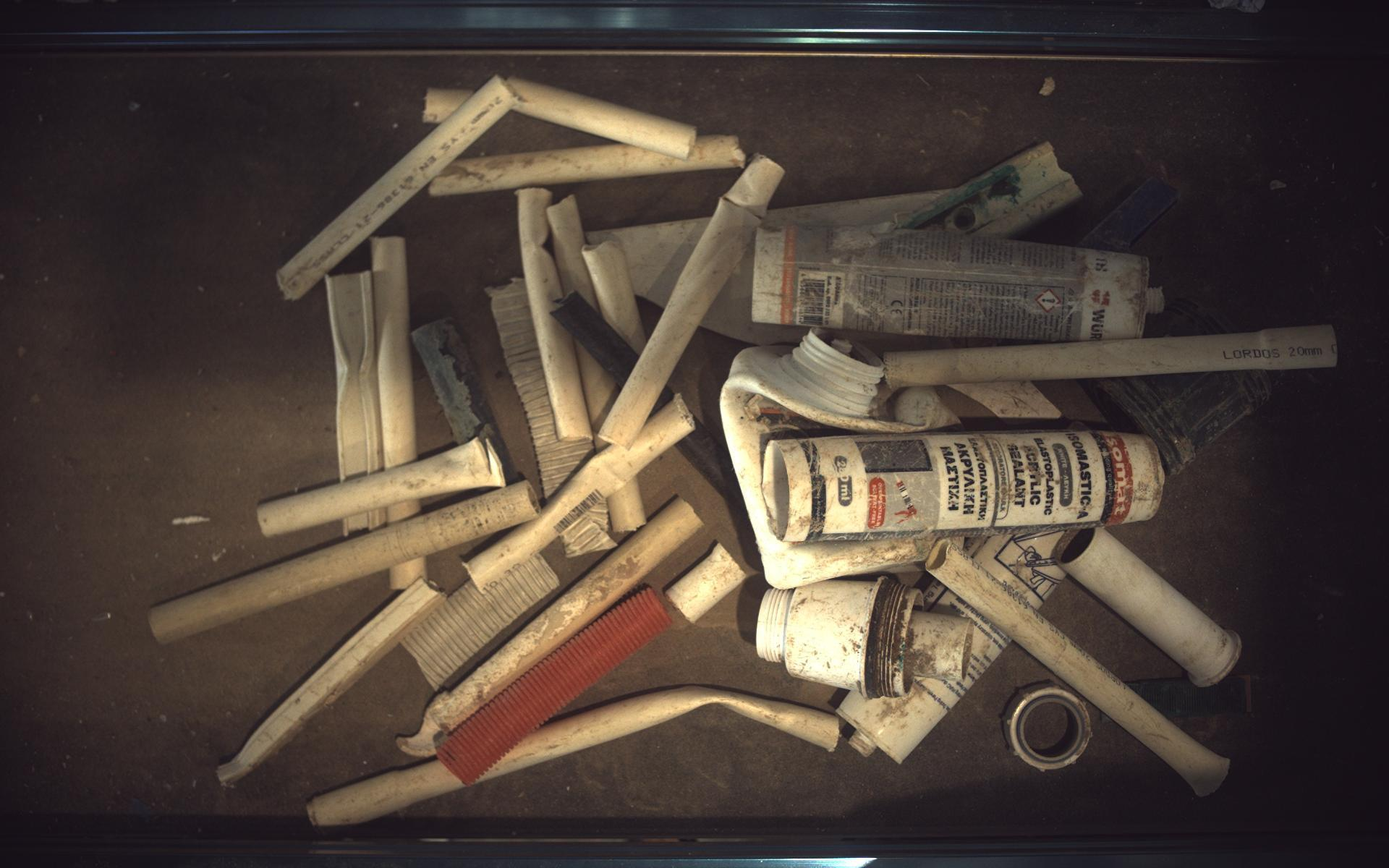pipes: (398, 498, 704, 758), (927, 541, 1233, 798), (148, 481, 538, 644), (598, 154, 785, 447), (276, 74, 516, 299), (437, 588, 673, 786), (465, 396, 696, 589), (481, 687, 841, 781), (1056, 529, 1244, 688), (885, 325, 1341, 388), (257, 438, 506, 537), (486, 278, 594, 499), (401, 553, 559, 690), (429, 134, 747, 195), (518, 187, 592, 441), (412, 318, 519, 484), (508, 76, 697, 159), (371, 236, 417, 469), (307, 760, 464, 828), (552, 292, 638, 386), (582, 234, 647, 354), (666, 543, 748, 624), (548, 195, 598, 310), (548, 194, 598, 307), (678, 419, 742, 506), (576, 343, 618, 430), (562, 501, 610, 558), (608, 477, 647, 534), (422, 87, 473, 123), (390, 558, 426, 591), (386, 500, 421, 522), (655, 387, 676, 410)
plastic: (721, 331, 934, 589), (752, 224, 1165, 341), (216, 579, 445, 786), (766, 430, 1166, 542), (839, 579, 1012, 765), (757, 577, 975, 699), (1088, 371, 1274, 477), (891, 141, 1084, 237), (325, 271, 383, 480), (704, 239, 808, 344), (587, 217, 709, 306), (1006, 684, 1094, 772), (1081, 177, 1181, 252), (974, 531, 1068, 609), (766, 191, 947, 226), (952, 380, 1065, 419), (1150, 299, 1239, 336), (895, 387, 961, 429), (343, 512, 385, 535)
